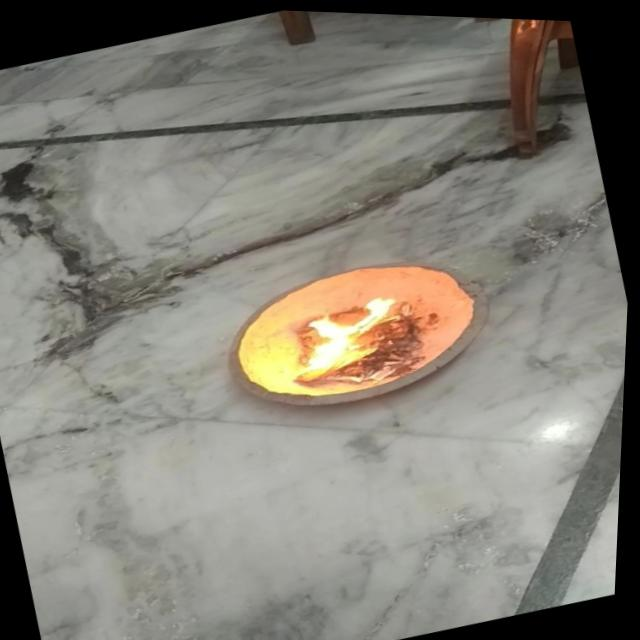fire: (287, 286, 414, 382)
